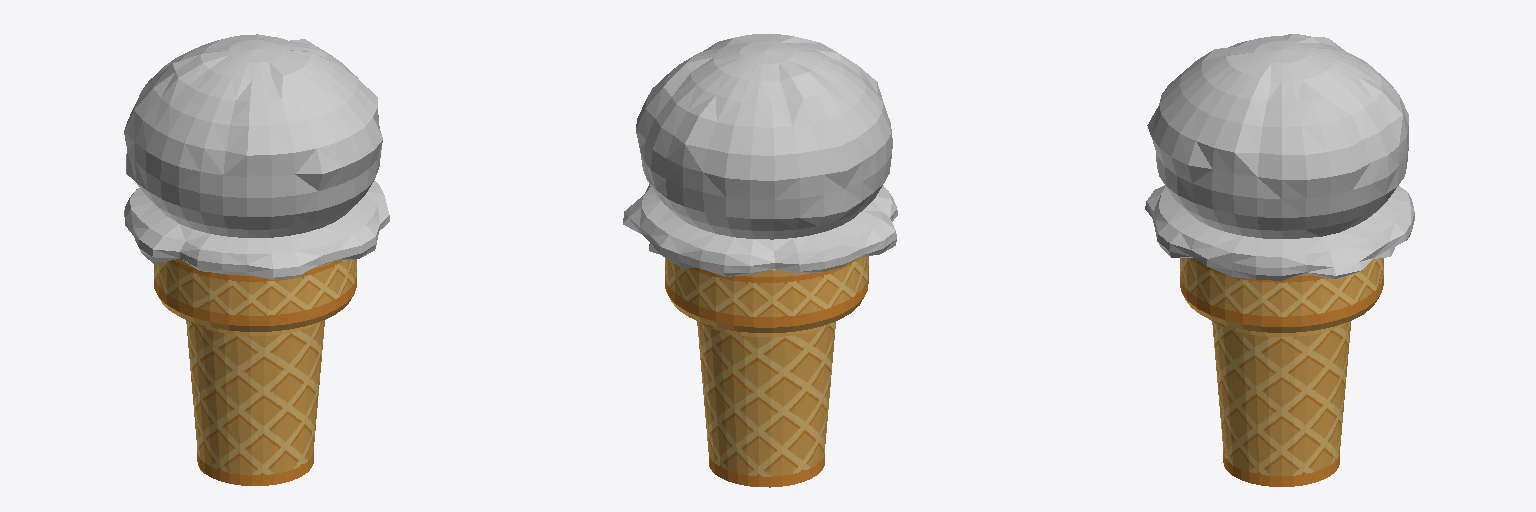
The picture shows the model from 3 angles: view 1: azimuth 30°, elevation 25°; view 2: azimuth 150°, elevation 25°; view 3: azimuth 270°, elevation 25°; orthographic projection.
Parts seen in each view (by area): view 1: Sphere, Cylinder; view 2: Sphere, Cylinder; view 3: Sphere, Cylinder.
Boxes of the visible parts, box(x1,y1,x2,y2) form: Sphere: box(124, 34, 389, 279); Cylinder: box(154, 259, 356, 485); Sphere: box(623, 34, 897, 276); Cylinder: box(665, 256, 868, 487); Sphere: box(1145, 34, 1414, 280); Cylinder: box(1180, 258, 1383, 486).
Bounding box in the file's own units: 3.79 × 6.41 × 3.8.
Materials: 2 (1 with a texture image).